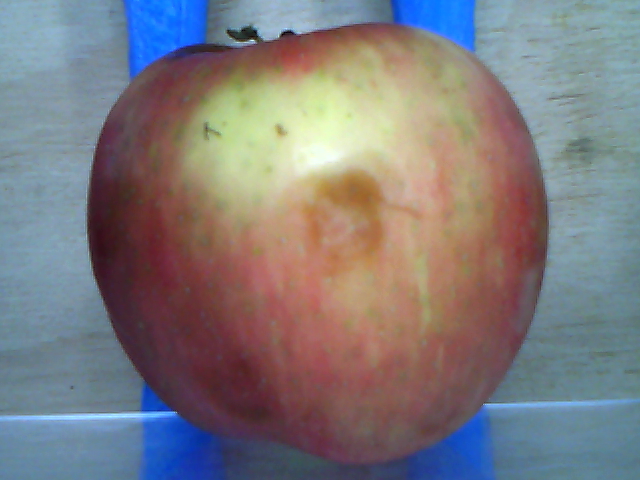bruise: (296, 167, 385, 279)
